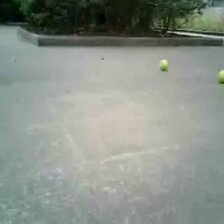tennis: (159, 58, 167, 69), (218, 70, 224, 83)
